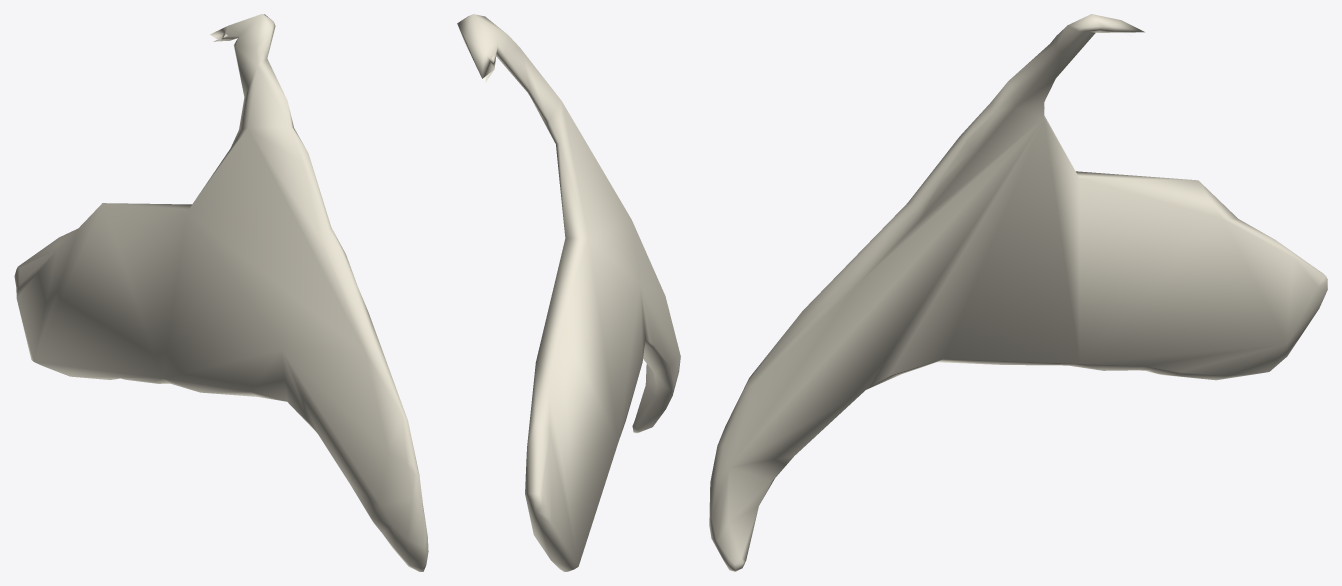
3 views of the same model, side by side, from view 1: azimuth 30°, elevation 25°; view 2: azimuth 150°, elevation 25°; view 3: azimuth 270°, elevation 25° (orthographic). The views are drawn at different scales.
Parts seen in each view (by area): view 1: ZA_c9913c8dd8b31c59; view 2: ZA_c9913c8dd8b31c59; view 3: ZA_c9913c8dd8b31c59.
Part boxes in pixels (bbox=[...]): ZA_c9913c8dd8b31c59: bbox=[14, 14, 428, 571]; ZA_c9913c8dd8b31c59: bbox=[457, 14, 680, 571]; ZA_c9913c8dd8b31c59: bbox=[709, 14, 1327, 571].
Bounding box in the file's own units: 0.0132 × 0.033 × 0.0336.
